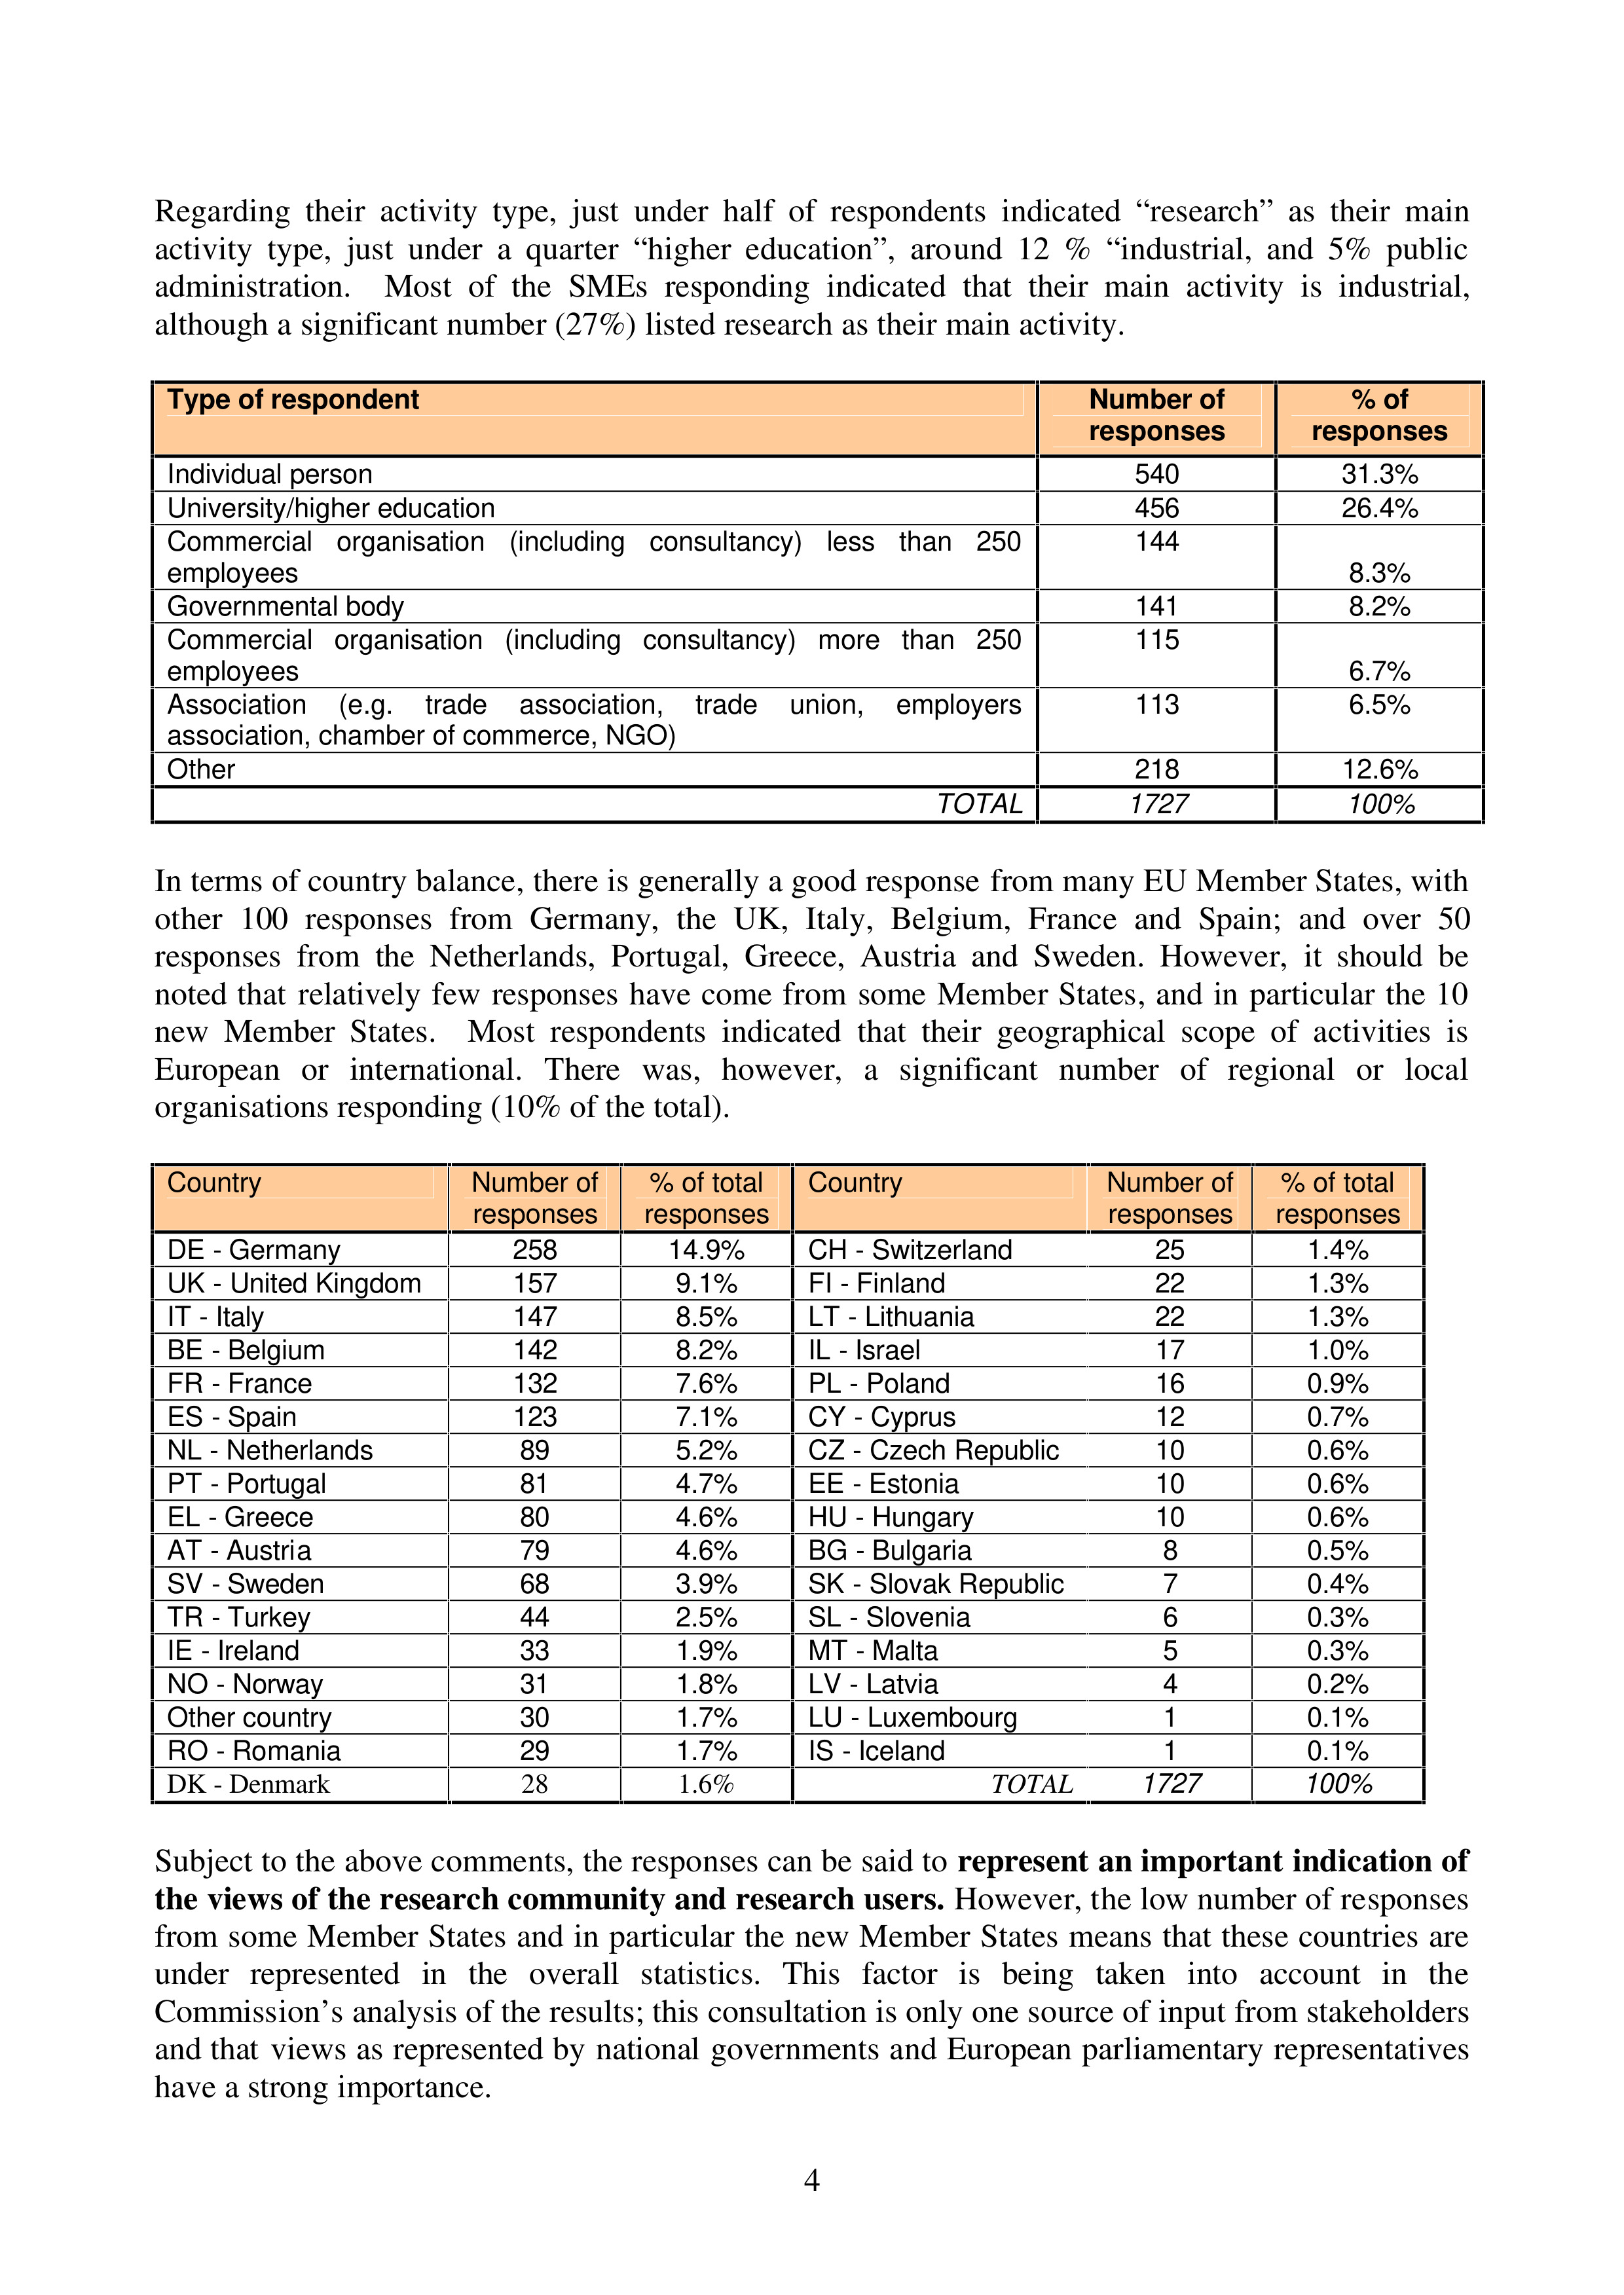table: (167, 1162, 1401, 1801), (167, 380, 1448, 821)
